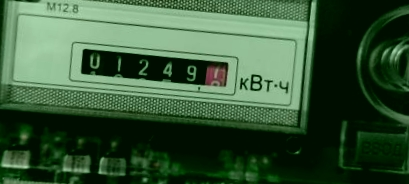0: (86, 48, 102, 70)
1: (111, 52, 124, 72)
2: (135, 55, 151, 77)
4: (160, 58, 174, 78)
7: (208, 59, 223, 80)
9: (183, 61, 198, 83)
screen: (59, 32, 239, 101)
